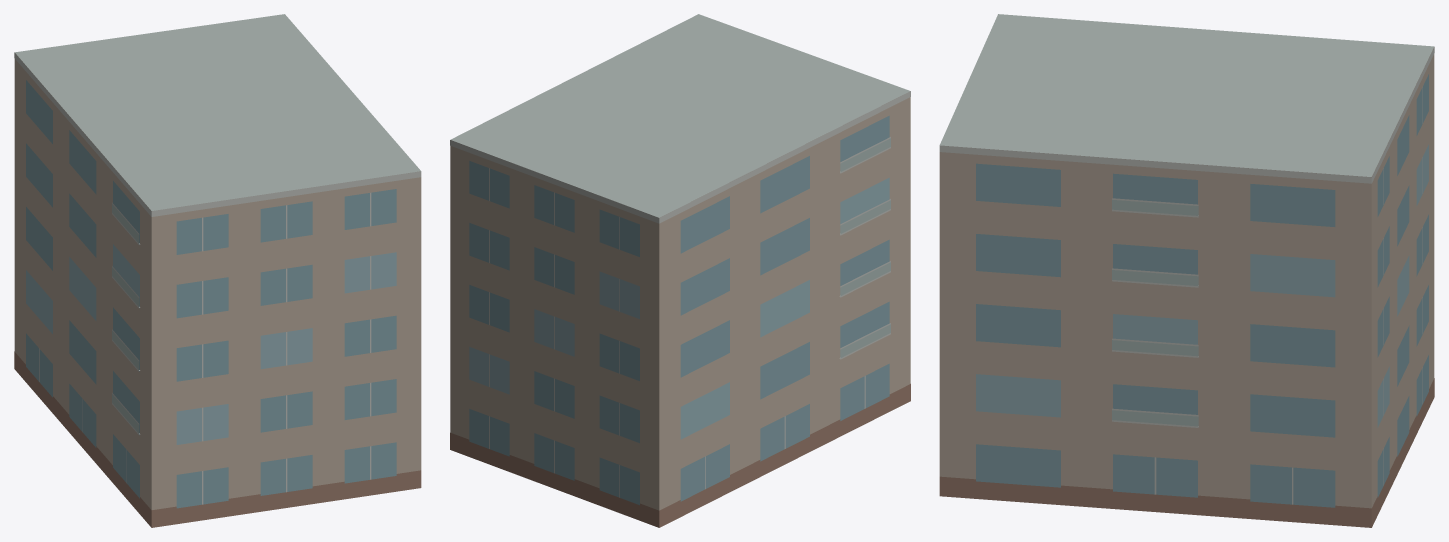
Rendered from survey-upis-32891695.glb.
3 views of the same model, side by side, from view 1: azimuth 30°, elevation 25°; view 2: azimuth 150°, elevation 25°; view 3: azimuth 270°, elevation 25° (orthographic). The views are drawn at different scales.
Parts seen in each view (by area): view 1: survey-upis-32891695.tmp; view 2: survey-upis-32891695.tmp; view 3: survey-upis-32891695.tmp.
Part boxes in pixels (left/top/right/bottom): survey-upis-32891695.tmp: left=14, top=14, right=421, bottom=527; survey-upis-32891695.tmp: left=450, top=14, right=910, bottom=527; survey-upis-32891695.tmp: left=939, top=14, right=1434, bottom=527.
Bounding box in the file's own units: 12.98 × 13 × 16.64.
